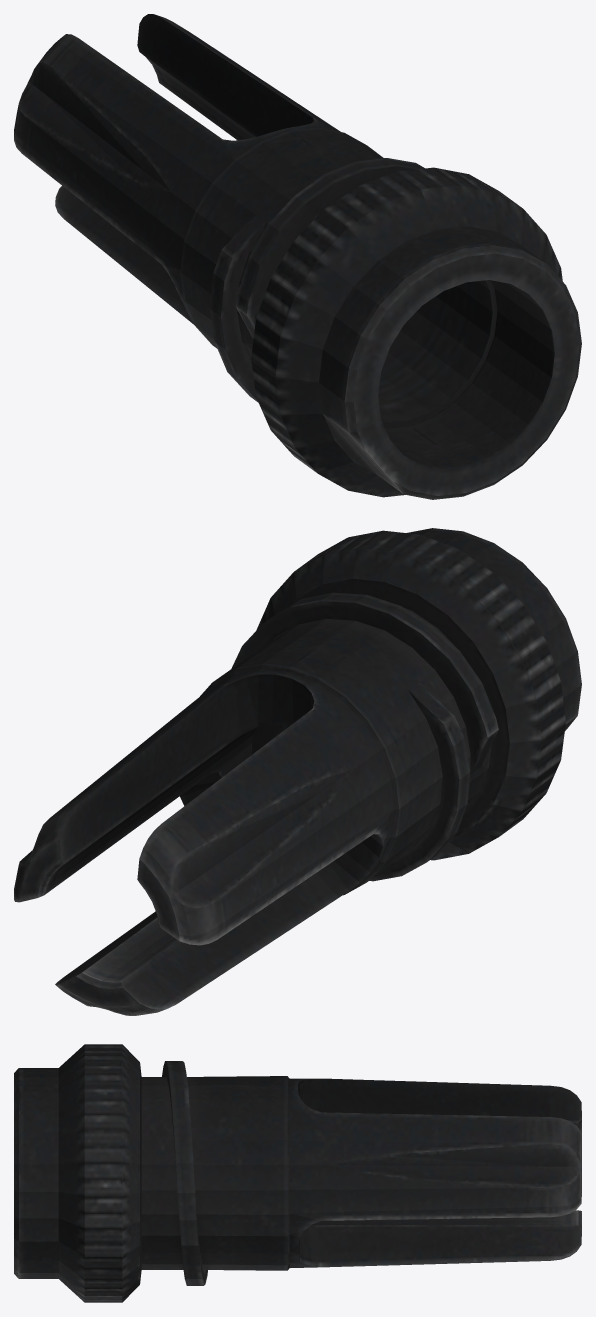
3 renders of one model, top to bottom at view 1: azimuth 30°, elevation 25°; view 2: azimuth 150°, elevation 25°; view 3: azimuth 270°, elevation 25°, orthographic. The views are drawn at different scales.
Visible parts, largest first — view 1: TW_5c7e5f112e221600106f4ede_PZ_Import; view 2: TW_5c7e5f112e221600106f4ede_PZ_Import; view 3: TW_5c7e5f112e221600106f4ede_PZ_Import.
Part boxes in pixels (x1,y1,x2,y2): TW_5c7e5f112e221600106f4ede_PZ_Import: [14, 14, 581, 499]; TW_5c7e5f112e221600106f4ede_PZ_Import: [14, 528, 581, 1015]; TW_5c7e5f112e221600106f4ede_PZ_Import: [14, 1044, 581, 1302].
Size of the model in its own units: 0.0173 by 0.0378 by 0.0173.
Materials: 1 (1 with a texture image).
